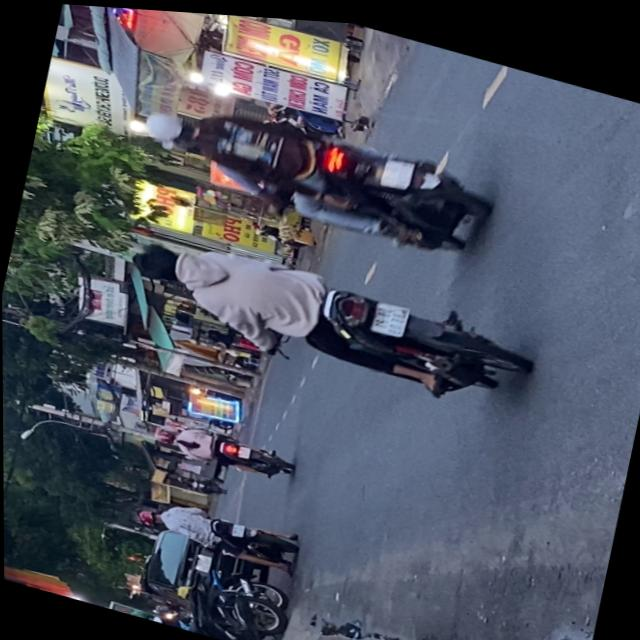helmet: (138, 101, 201, 151), (133, 503, 162, 525)
licenseplate: (115, 214, 535, 417), (125, 74, 499, 264), (130, 487, 300, 572)
motorcyclist: (126, 234, 191, 285)
nohelmet: (369, 294, 407, 332), (376, 148, 412, 186), (228, 519, 243, 534)
